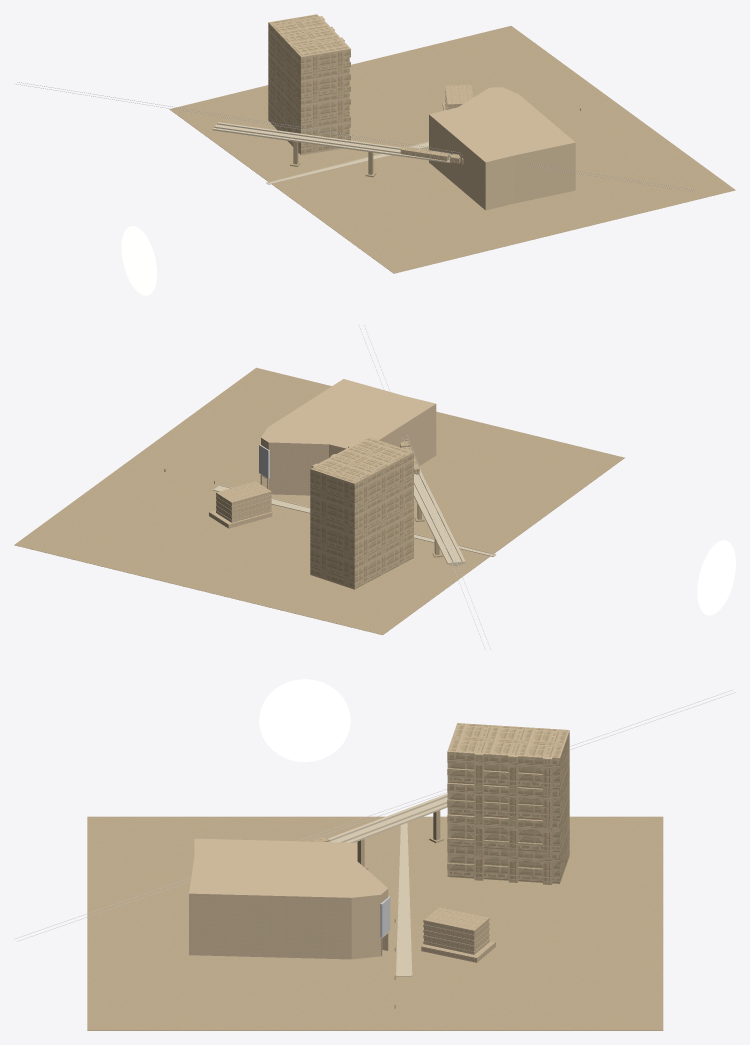
3 renders of one model, top to bottom at view 1: azimuth 30°, elevation 25°; view 2: azimuth 150°, elevation 25°; view 3: azimuth 270°, elevation 25°, orthographic. The views are drawn at different scales.
Parts seen in each view (by area): view 1: ground, Cube.004, Cube, Railway.001, Circle, Cube.001, the way, 立方體; view 2: ground, Cube, Cube.004, Circle, Cube.001, Railway.001, the way; view 3: ground, Cube.004, Cube, Circle, Cube.001, the way, Railway.001.
Part boxes in pixels (left/top/right/bottom): ground: left=169, top=26, right=735, bottom=273; Cube.004: left=429, top=87, right=575, bottom=210; Cube: left=268, top=14, right=350, bottom=155; Railway.001: left=212, top=122, right=451, bottom=162; Circle: left=121, top=226, right=157, bottom=295; Cube.001: left=442, top=85, right=473, bottom=110; the way: left=266, top=141, right=428, bottom=184; 立方體: left=400, top=146, right=463, bottom=164; ground: left=14, top=367, right=624, bottom=634; Cube: left=310, top=437, right=413, bottom=589; Cube.004: left=260, top=379, right=436, bottom=495; Circle: left=697, top=540, right=735, bottom=615; Cube.001: left=209, top=481, right=272, bottom=528; Railway.001: left=414, top=469, right=465, bottom=566; the way: left=213, top=485, right=495, bottom=556; ground: left=87, top=816, right=663, bottom=1030; Cube.004: left=189, top=838, right=388, bottom=959; Cube: left=447, top=723, right=569, bottom=884; Circle: left=259, top=679, right=350, bottom=762; Cube.001: left=421, top=907, right=495, bottom=962; the way: left=396, top=823, right=412, bottom=976; Railway.001: left=328, top=793, right=447, bottom=842.
Size of the model in its own units: 143 by 37.02 by 136.
7 materials, 4 textured.
